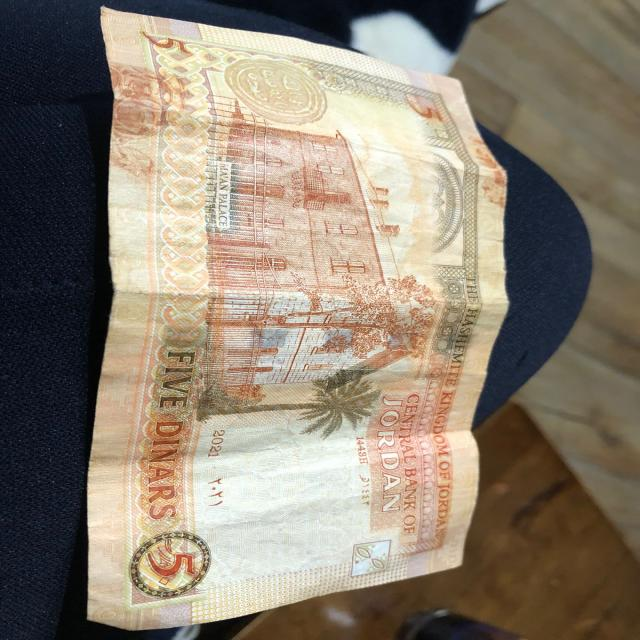5-dinar: (80, 2, 511, 636)
